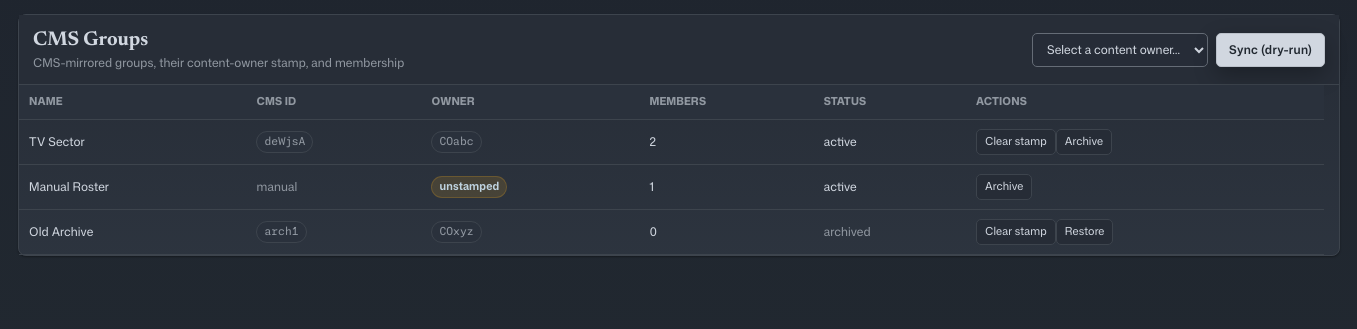
Test: GroupsView sync stepper › shows a 503 detail with a Connectors pointer, stays on Reason, and re-enables retry
Select "OWNERaaa" in the dropdown named "Content owner" at (1120, 50), box [1032,32,1208,66]
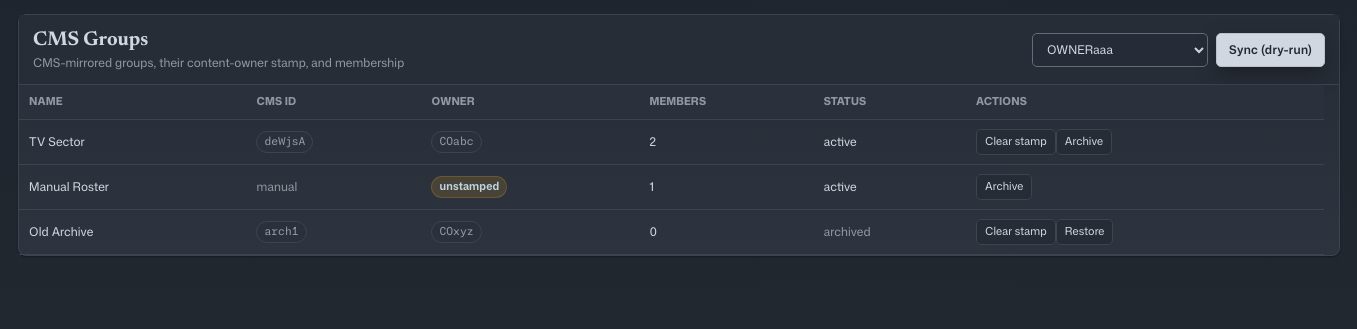
Click the button "Sync (dry-run)".
click(1270, 50)  # box [1216,32,1325,66]
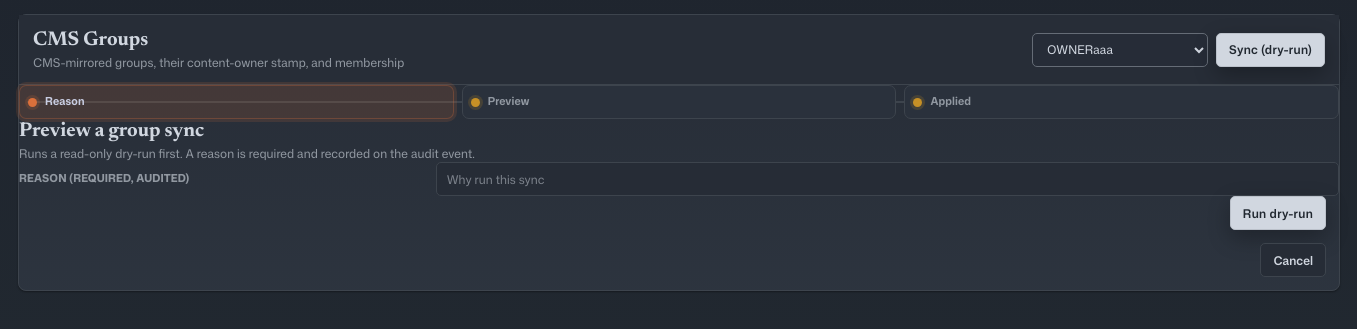
Type "try sync" into the field labelled "Reason (required, audited)".
click(887, 179); type("try sync")  # box [436,162,1339,196]
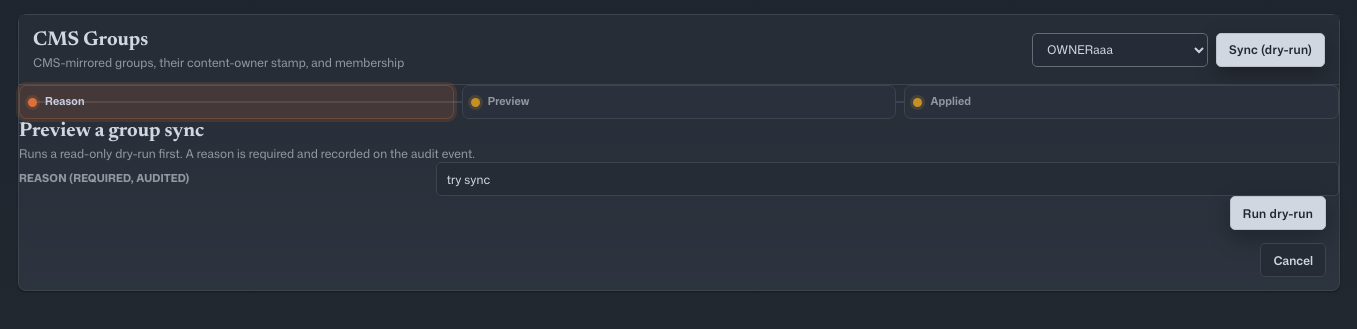
Click the button "Run dry-run".
click(1278, 213)  # box [1230,196,1326,230]
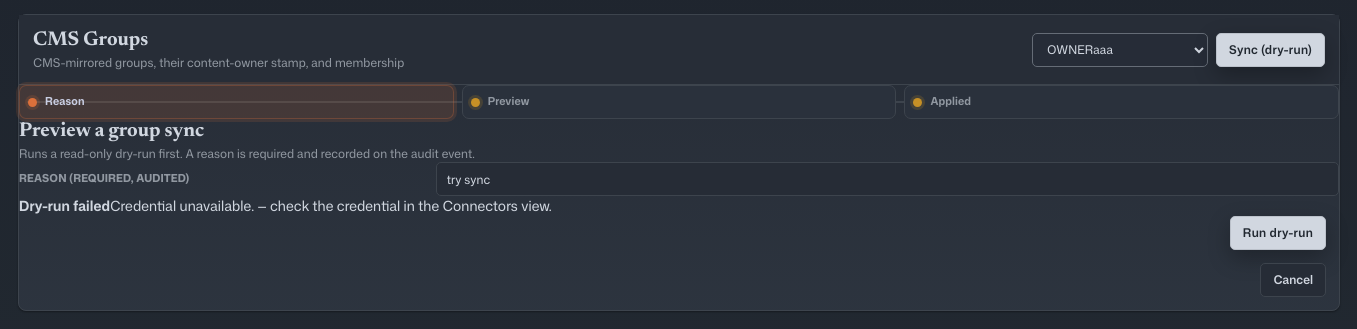
Expected: the button "Run dry-run" is enabled, [1230,216,1326,250]
Expected: the text "check the credential in the Connectors view." is shown, [110,196,552,215]
